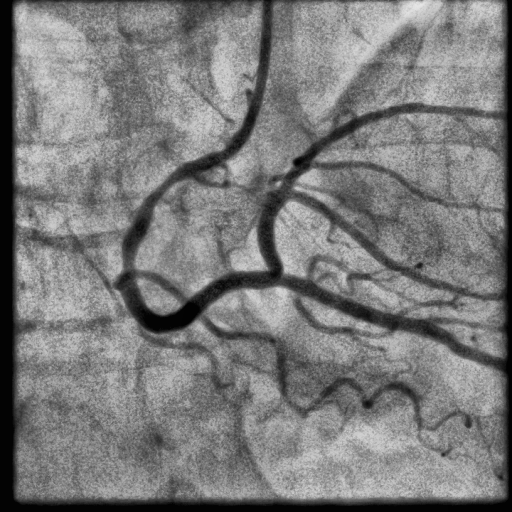pborca: (257, 102, 510, 274)
pda: (271, 274, 512, 372)
rca: (117, 94, 281, 332)
